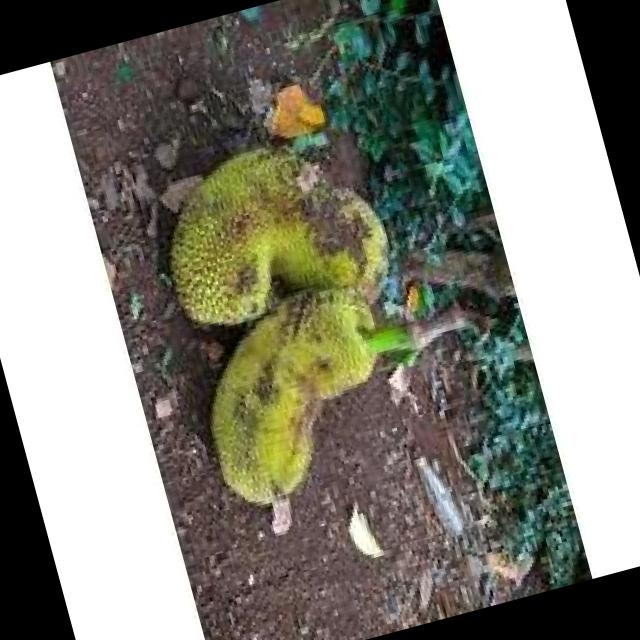Fruit: (114, 92, 450, 462)
